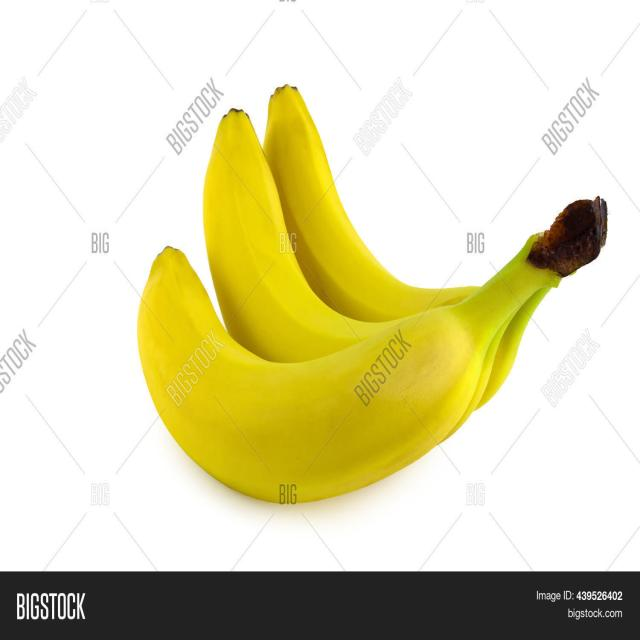Banana: (138, 218, 571, 504), (264, 85, 476, 322), (264, 85, 476, 321), (204, 109, 389, 362)
